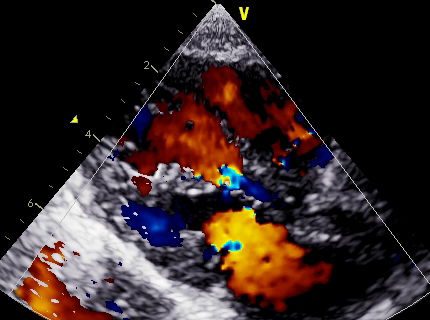AR: (152, 102, 252, 182)
